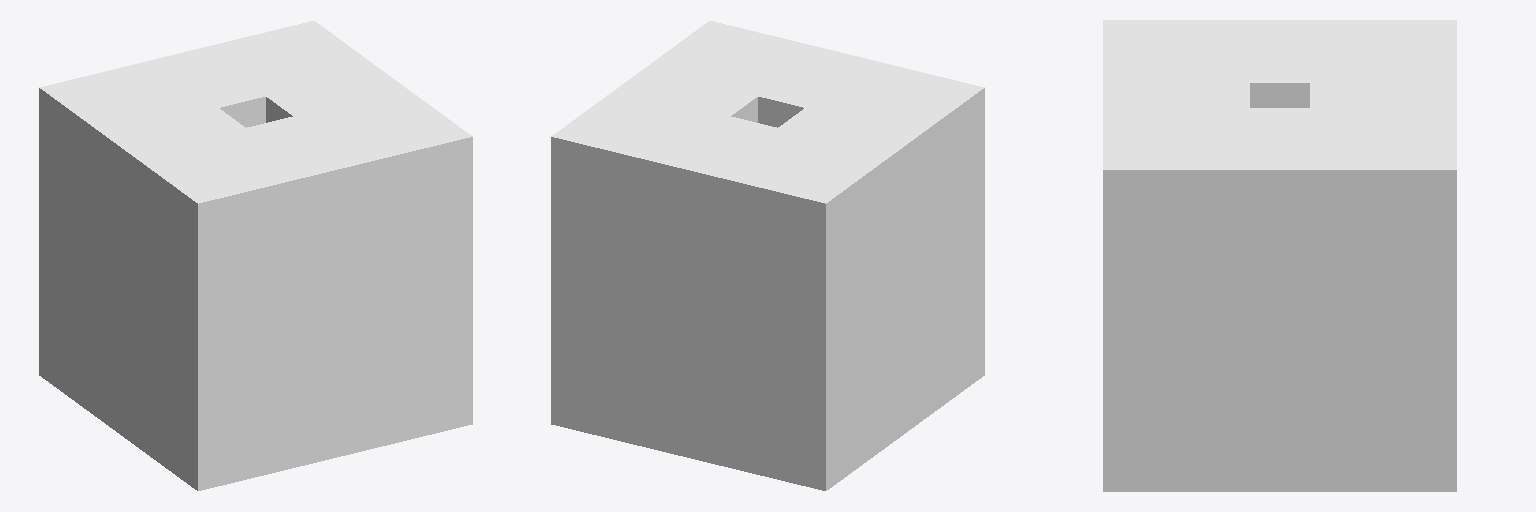
robot.urdf — 装配体2:
<?xml version="1.0" encoding="utf-8"?>
<!-- This URDF was automatically created by SolidWorks to URDF Exporter! Originally created by [author] ([email redacted]) 
     Commit Version: 1.6.0-4-g7f85cfe  Build Version: 1.6.7995.38578
     For more information, please see http://wiki.ros.org/sw_urdf_exporter -->
<robot
  name="装配体2">
  <link
    name="base_link">
    <inertial>
      <origin
        xyz="-7.26169609417182E-18 2.8800952069322E-18 -7.57495733300003E-18"
        rpy="0 0 0" />
      <mass
        value="0.33292" />
      <inertia
        ixx="0.000275879706666667"
        ixy="-2.38336983251116E-21"
        ixz="-2.83089083587523E-20"
        iyy="0.000279874746666667"
        iyz="-1.01943489931655E-22"
        izz="0.000275879706666667" />
    </inertial>
    <visual>
      <origin
        xyz="0 0 0"
        rpy="0 0 0" />
      <geometry>
        <mesh
          filename="package://hole/meshes/base_link.STL" />
      </geometry>
      <material
        name="">
        <color
          rgba="1 1 1 1" />
      </material>
    </visual>
    <collision concave="yes">
      <origin
        xyz="0 0 0"
        rpy="0 0 0" />
      <geometry>
        <mesh
          filename="package://hole/meshes/base_link.STL" />
      </geometry>
    </collision>
  </link>
</robot>

--- Render facts (derived) ---
3 views of the same robot in one strip: view 1: azimuth 30°, elevation 25°; view 2: azimuth 150°, elevation 25°; view 3: azimuth 270°, elevation 25° (orthographic).
Model 装配体2 with 1 links and 0 joints (none), rooted at base_link, posed every joint at zero.
Visible links, largest first — view 1: base_link; view 2: base_link; view 3: base_link.
Boxes of the visible links, x1=… form: base_link: x1=39, y1=21, x2=472, y2=490; base_link: x1=551, y1=21, x2=984, y2=490; base_link: x1=1103, y1=20, x2=1456, y2=491.
Size in the robot's own frame: 0.07 by 0.07 by 0.07 metres.
1 mesh visuals loaded from 1 distinct referenced files (1 binary STL).